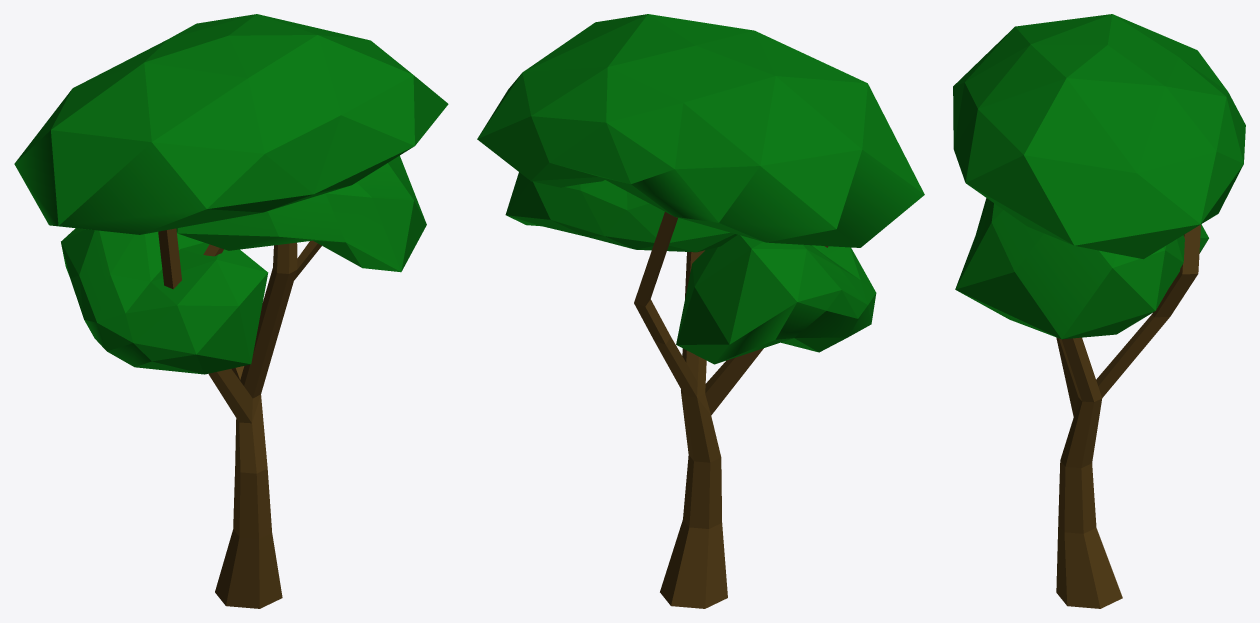
Rendered from Tree-04-b.fbx.
3 renders of one model, left to right at view 1: azimuth 30°, elevation 25°; view 2: azimuth 150°, elevation 25°; view 3: azimuth 270°, elevation 25°, orthographic. The views are drawn at different scales.
Parts seen in each view (by area): view 1: Tree-04; view 2: Tree-04; view 3: Tree-04.
Boxes of the visible parts, <box> form: Tree-04: <box>14,14,448,608</box>; Tree-04: <box>477,14,924,608</box>; Tree-04: <box>953,14,1245,608</box>.
Size of what is drawn, in the model's own units: 3.97 by 5.25 by 2.55.
